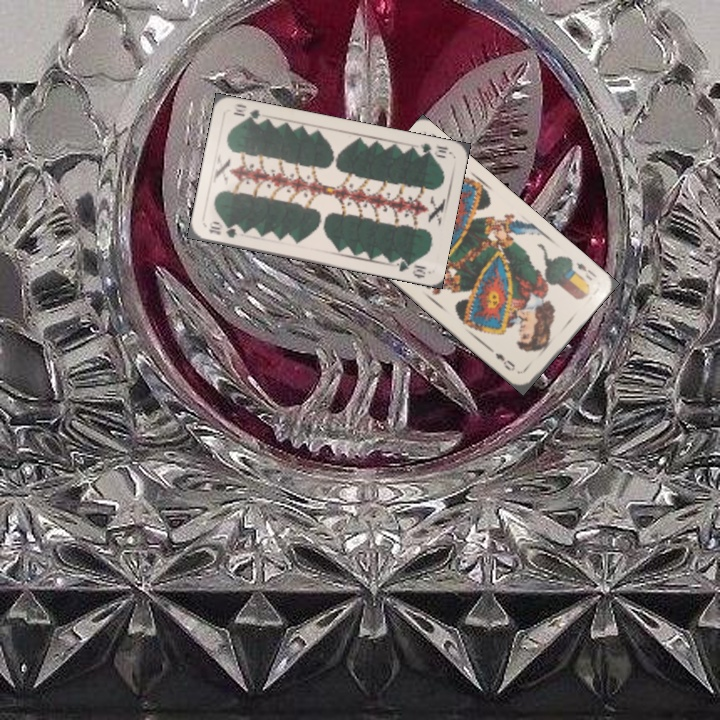EO: (572, 258, 599, 284)
G10: (411, 139, 451, 161), (204, 221, 239, 240)
